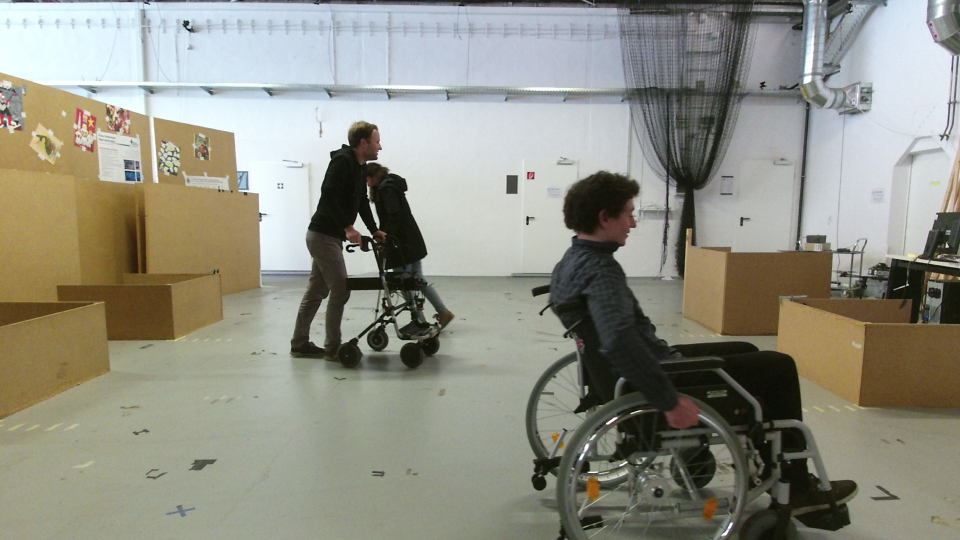wheelchair: (514, 166, 861, 540)
